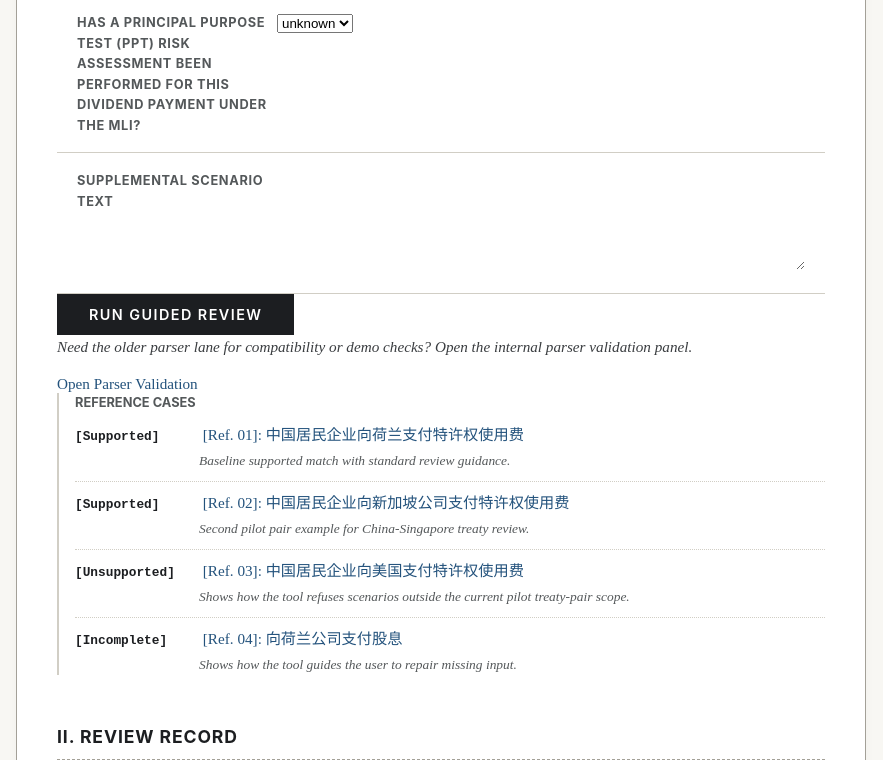
Test: describes branch-ambiguity hold states without pretending the issue is low confidence
(page scrolled)
Click the button "Open Parser Validation" at {"x": 127, "y": 384}, box [57,375,198,393]
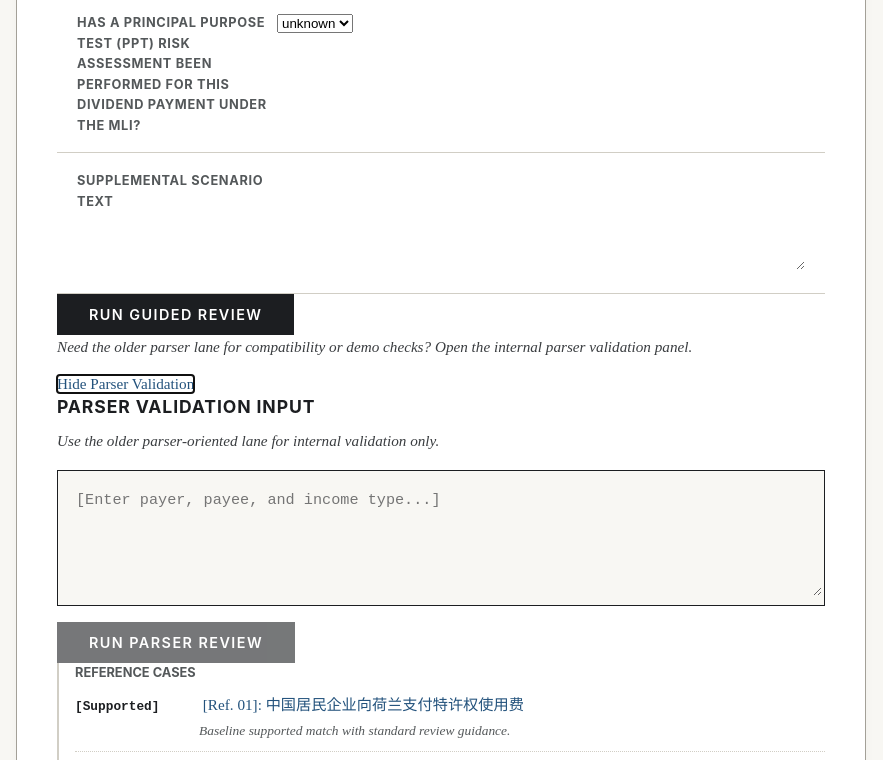
Type "中国公司向荷兰公司支付股息" into the text box named "cross-border scenario" at {"x": 441, "y": 534}, box [60,473,822,596]
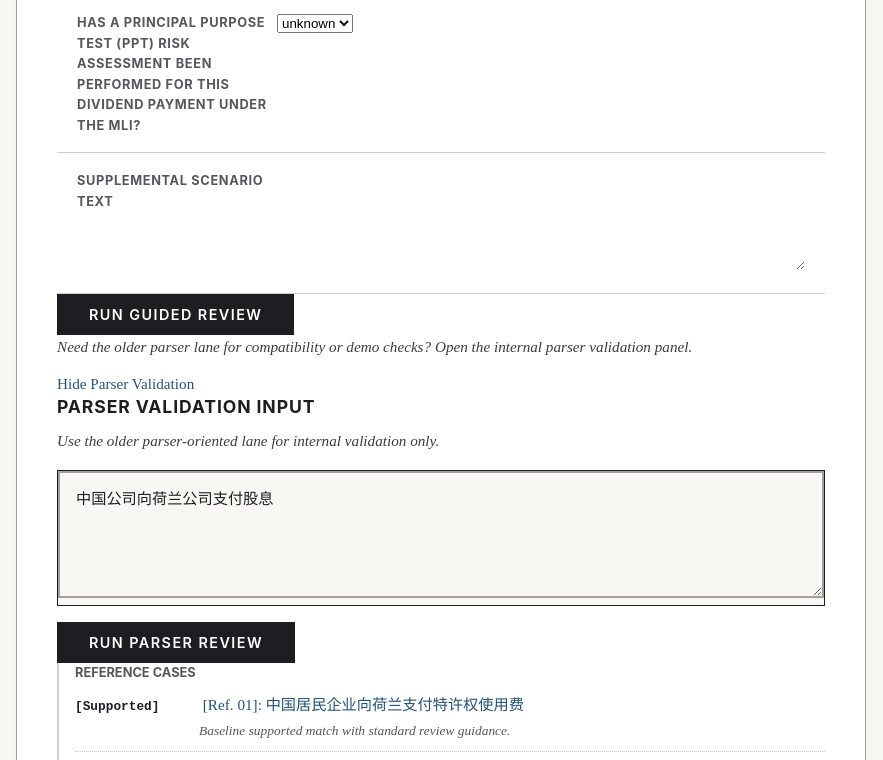
Click the button "Run Parser Review" at {"x": 176, "y": 643}, box [57,622,295,663]
(page scrolled)
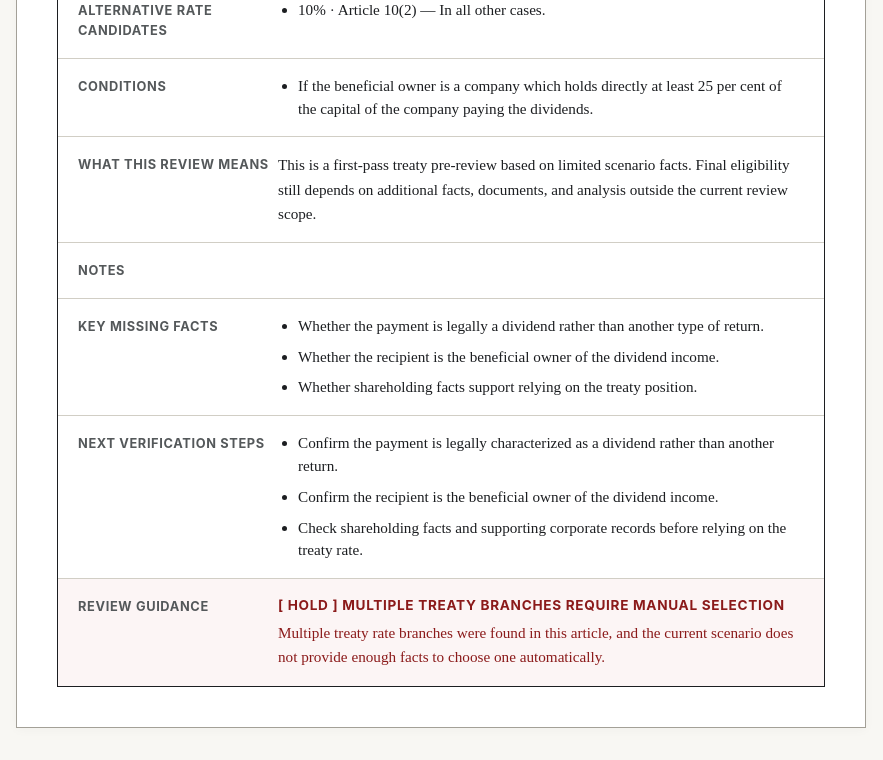
Result: the text "[ HOLD ] Multiple treaty branches require manual selection" is shown at [278,595,804,617]
